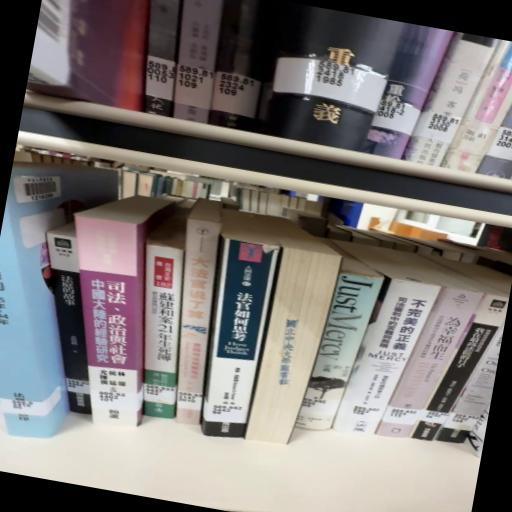backward: (247, 246, 347, 455)
book: (40, 181, 180, 434), (114, 214, 207, 429), (26, 219, 122, 418), (188, 238, 279, 445)
